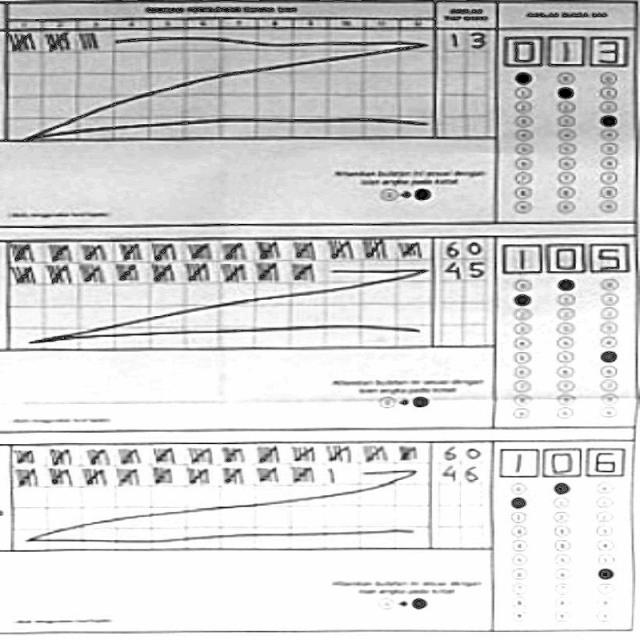Suara: (498, 236, 632, 276), (494, 442, 628, 482), (499, 30, 632, 70)
